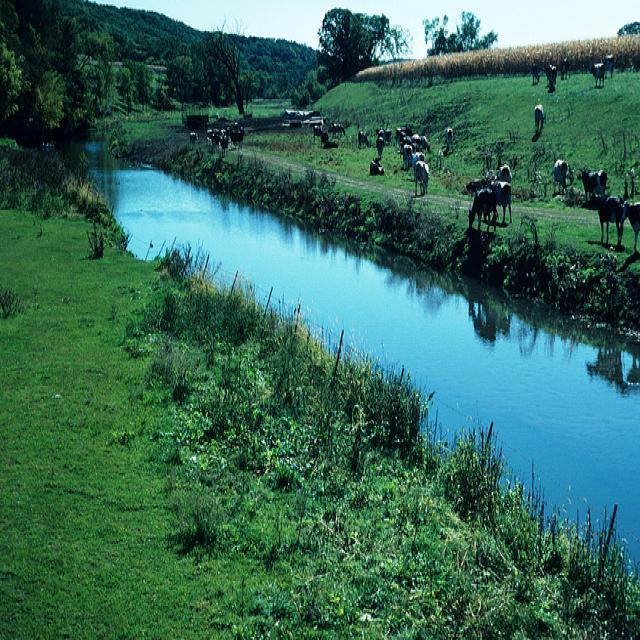cow: (187, 49, 612, 232), (584, 192, 623, 247), (575, 158, 608, 197), (620, 198, 639, 250), (413, 158, 428, 197), (407, 145, 424, 179), (552, 157, 566, 192), (587, 59, 603, 86), (543, 64, 556, 90), (399, 137, 410, 167), (328, 121, 345, 138), (369, 156, 383, 175), (414, 135, 429, 152), (356, 129, 368, 148), (444, 126, 452, 148)
